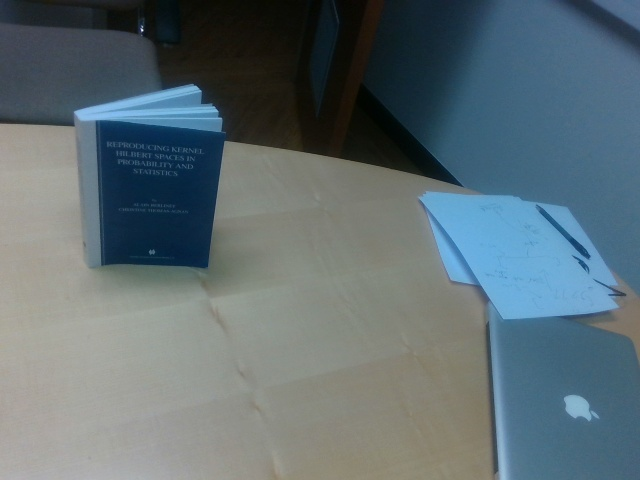book: (74, 84, 228, 270)
